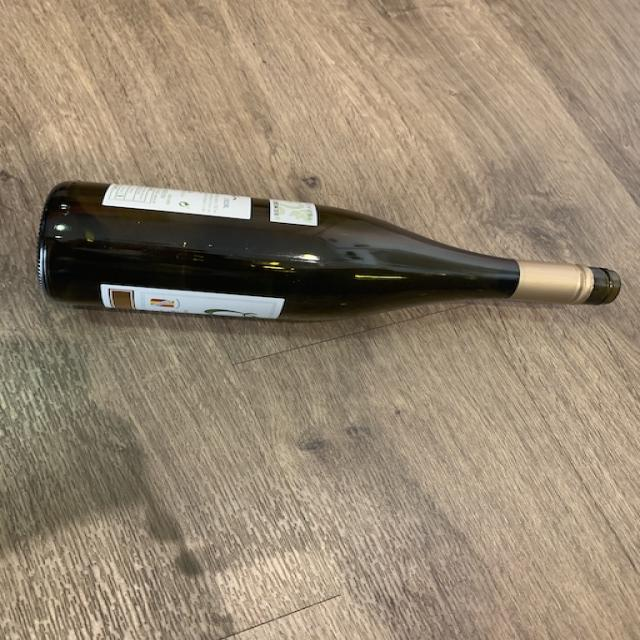litter: (35, 175, 623, 327)
